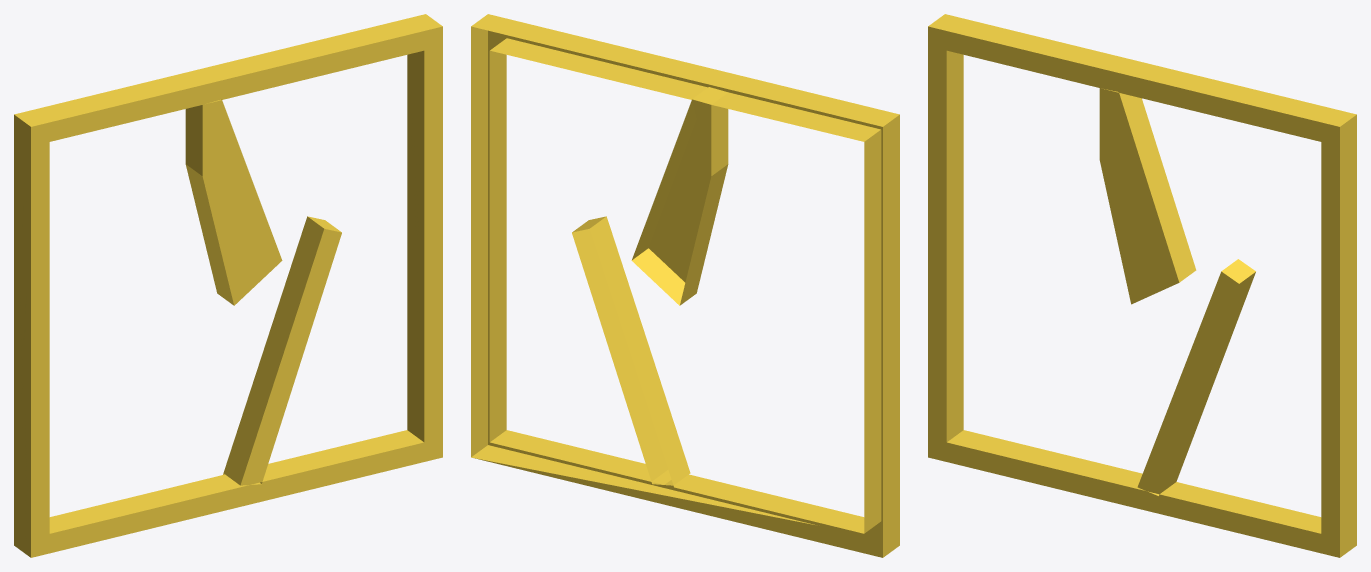
Rendered from Passage_planar_env.dae.
The picture shows the model from 3 angles, left to right: view 1: azimuth 30°, elevation 25°; view 2: azimuth 150°, elevation 25°; view 3: azimuth 330°, elevation 25°; orthographic projection.
Visible parts, largest first — view 1: instance_0 (×3); view 2: instance_0 (×3); view 3: instance_0 (×3).
Part boxes in pixels (box(x1,y1,x2,y2)): instance_0 (×3): box(14, 14, 442, 557); instance_0 (×3): box(471, 14, 899, 557); instance_0 (×3): box(928, 14, 1356, 557).
Bounding box in the file's own units: 110 × 7.87 × 110.
